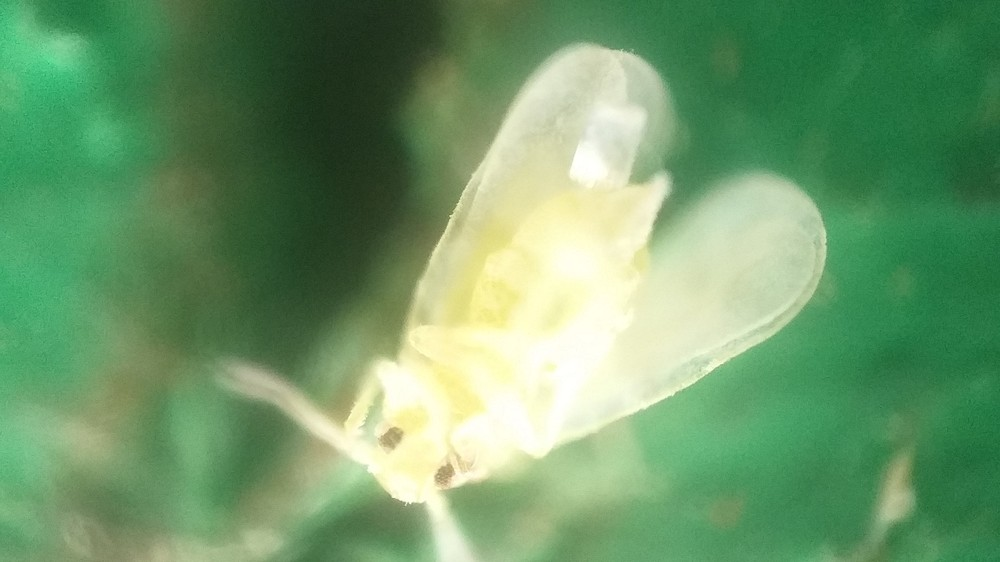Mosca Blanca: (206, 40, 852, 560)
